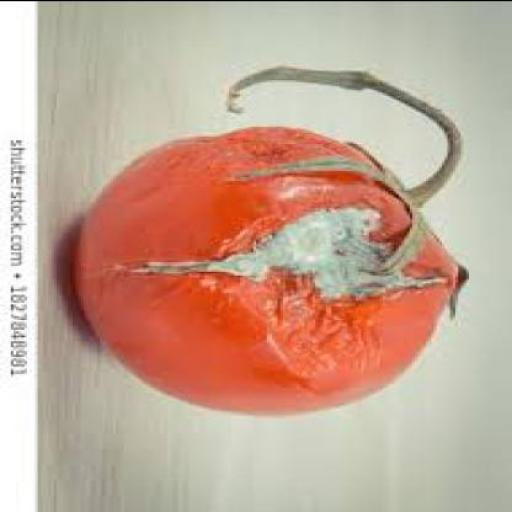biodegradable: (76, 64, 474, 411)
